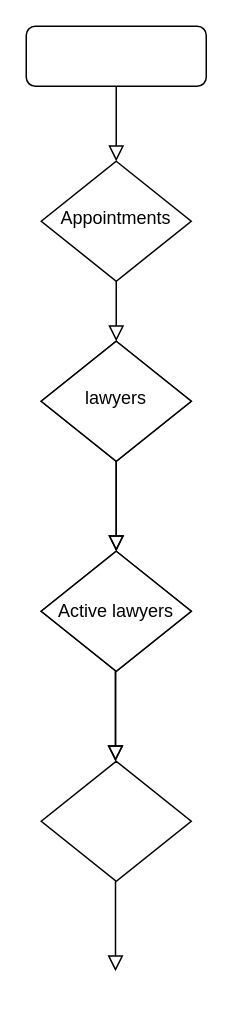
Some shapes in this 233 by 1013 pixel diagram are drawn without their labels. Here are the shapes that lost their labels. From the top down, the centre of each, then its label:
[115,55]: Admin
[115,820]: Reviews
